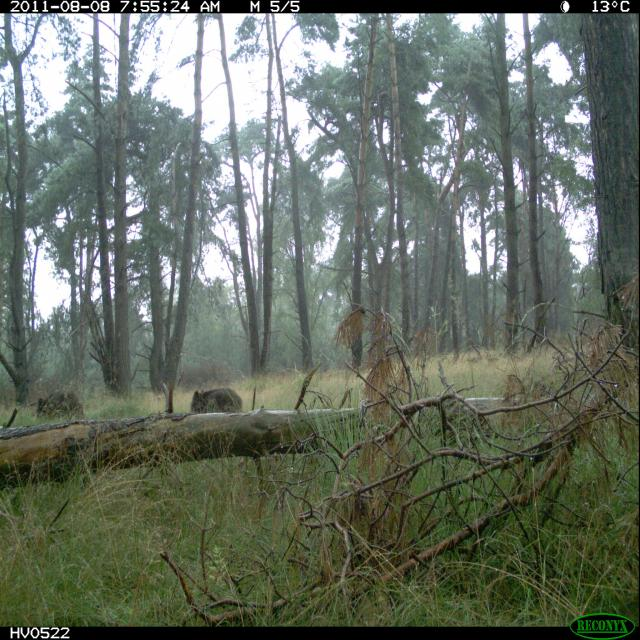boar: (22, 368, 86, 431), (188, 380, 260, 418)
